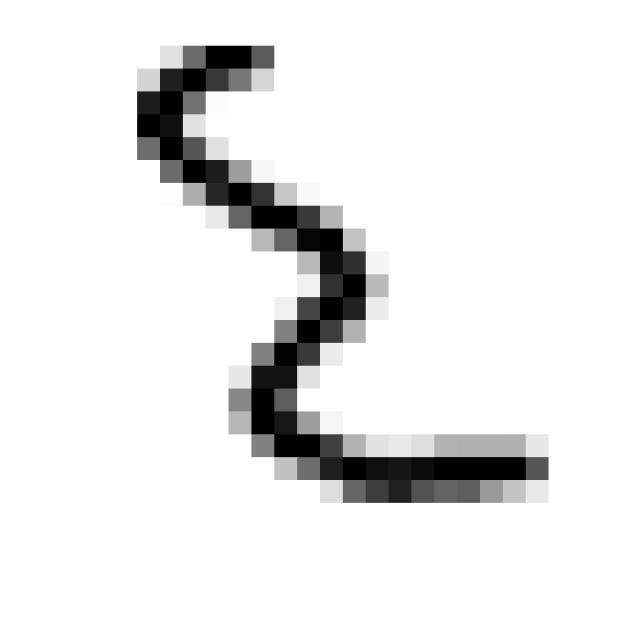4 -four-: (114, 28, 566, 512)
